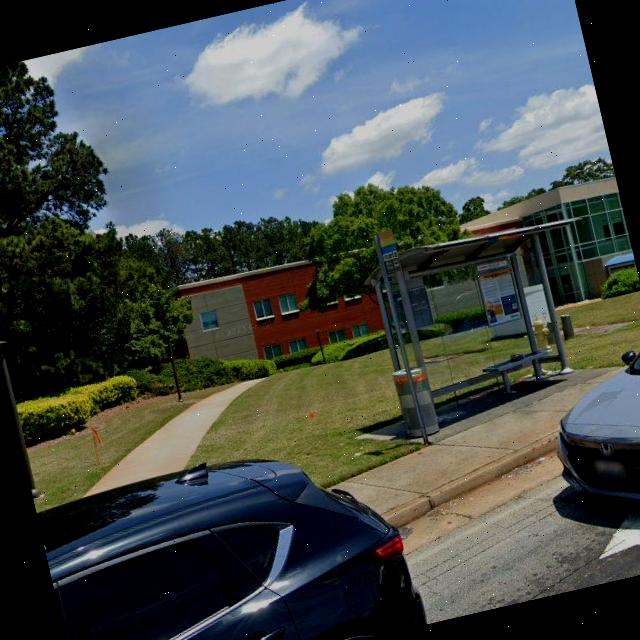seating: (479, 344, 561, 402)
shelter: (360, 210, 617, 434)
trash_can: (391, 363, 440, 440)
